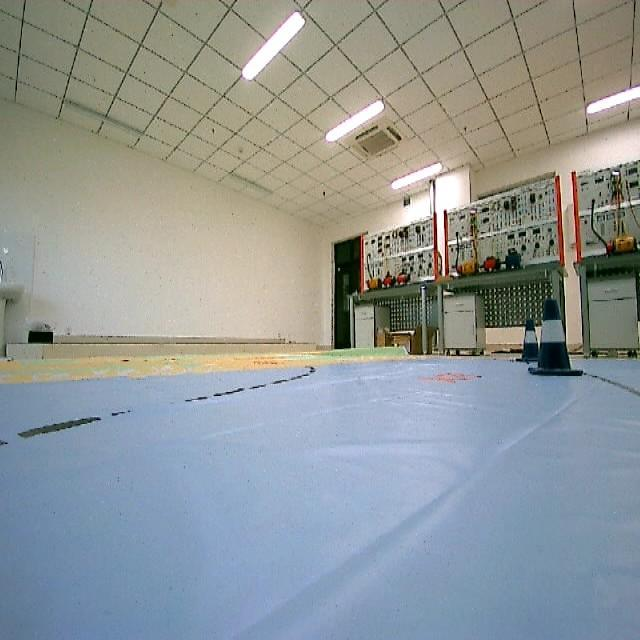obstacle: (536, 300, 582, 376), (521, 324, 543, 362)
